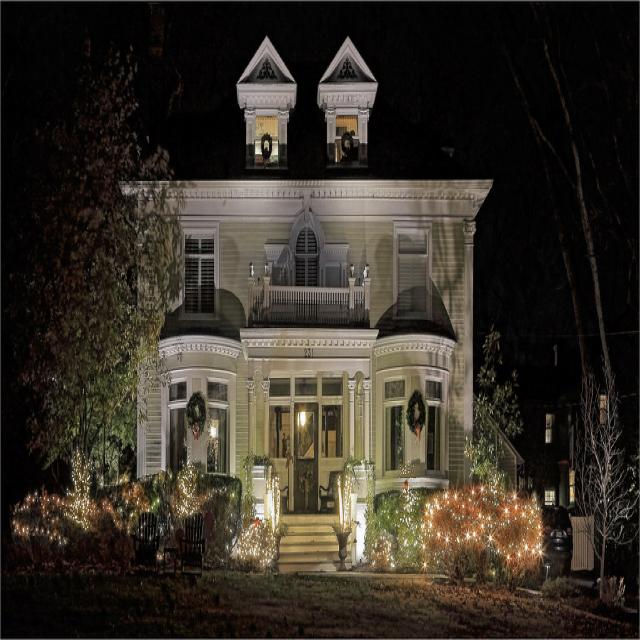building: (110, 30, 498, 563)
